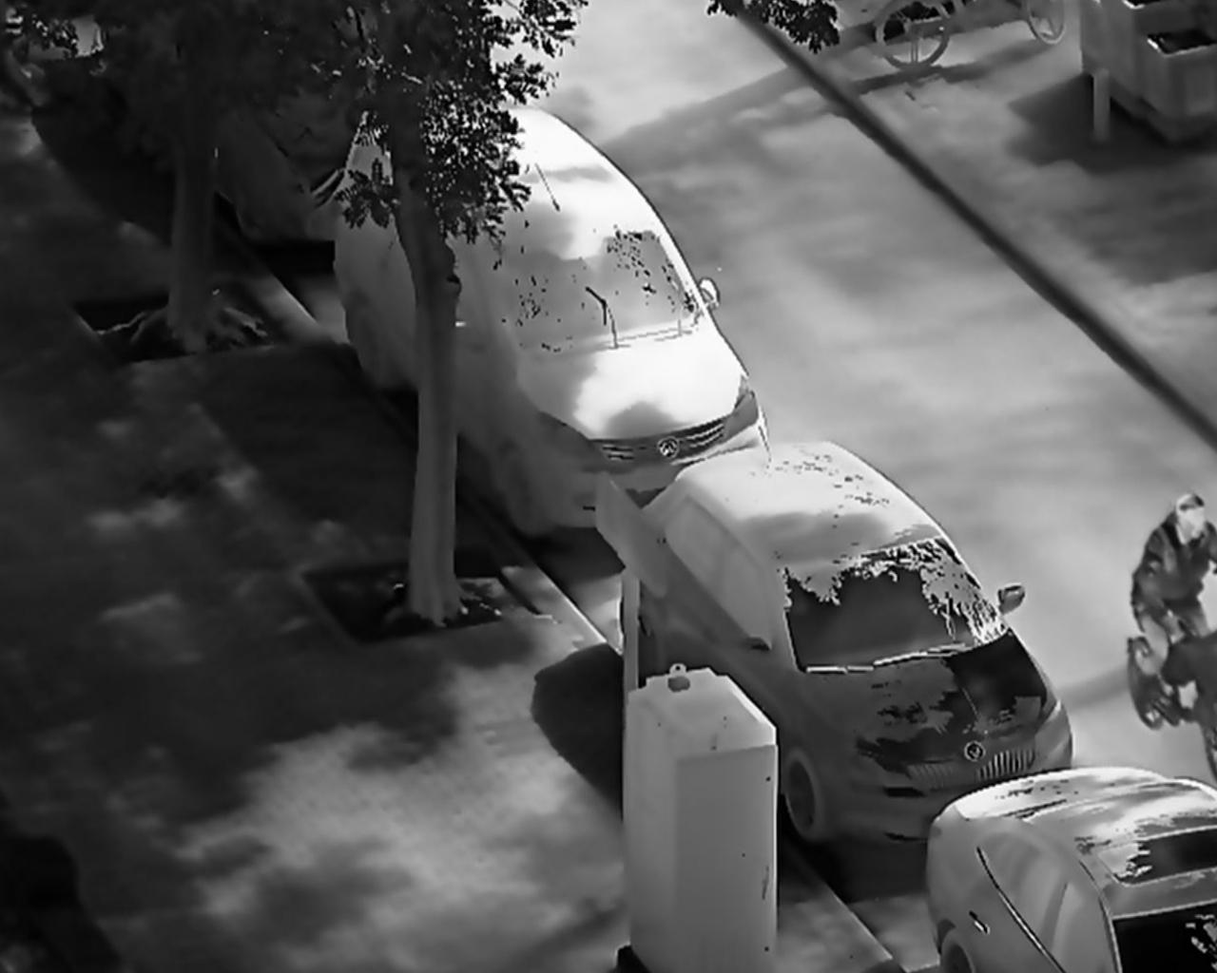person: (1130, 489, 1217, 679)
